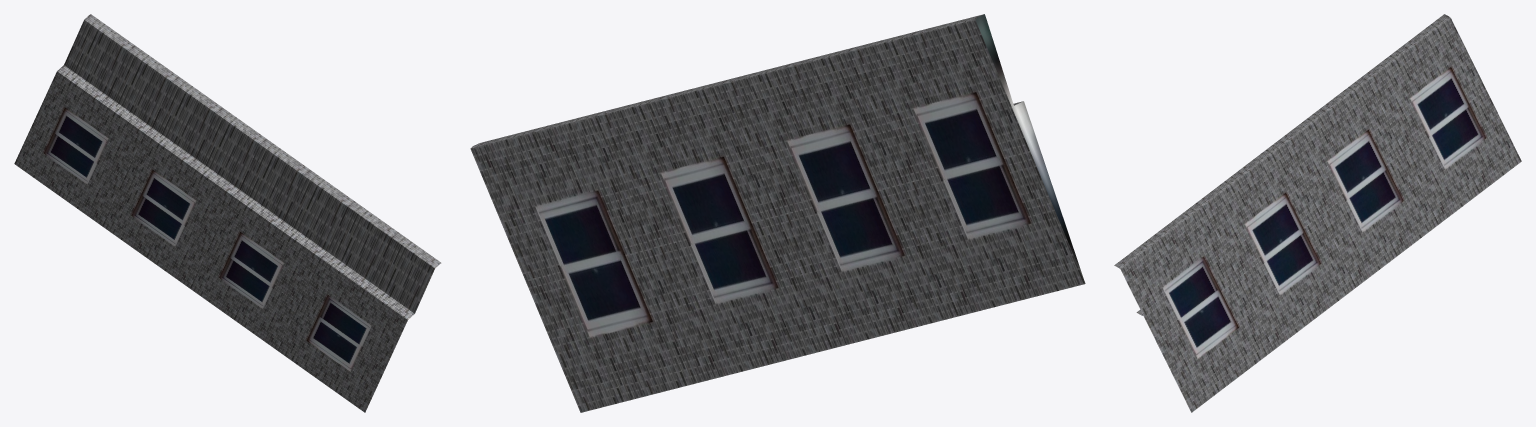
3 views of the same model, side by side, from view 1: azimuth 30°, elevation 25°; view 2: azimuth 210°, elevation 25°; view 3: azimuth 270°, elevation 25° (orthographic). The views are drawn at different scales.
Size of the model in its own units: 7.69 by 11.14 by 12.55.
Materials: 2 (2 with a texture image).
